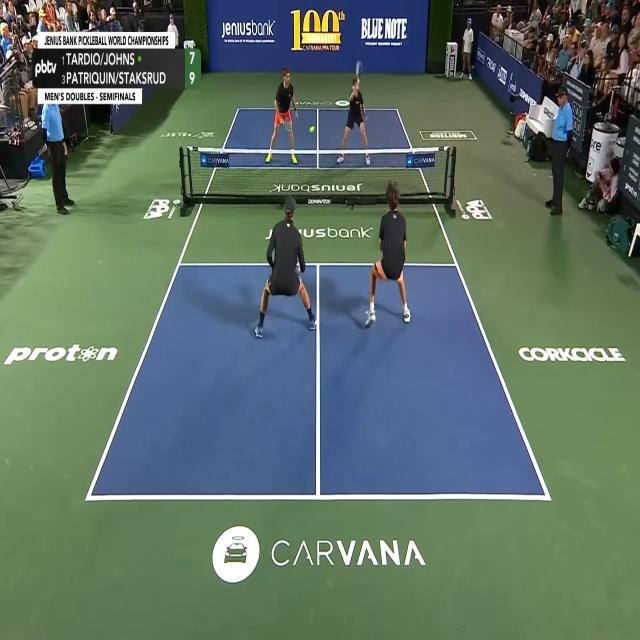ball: (309, 125, 315, 133)
